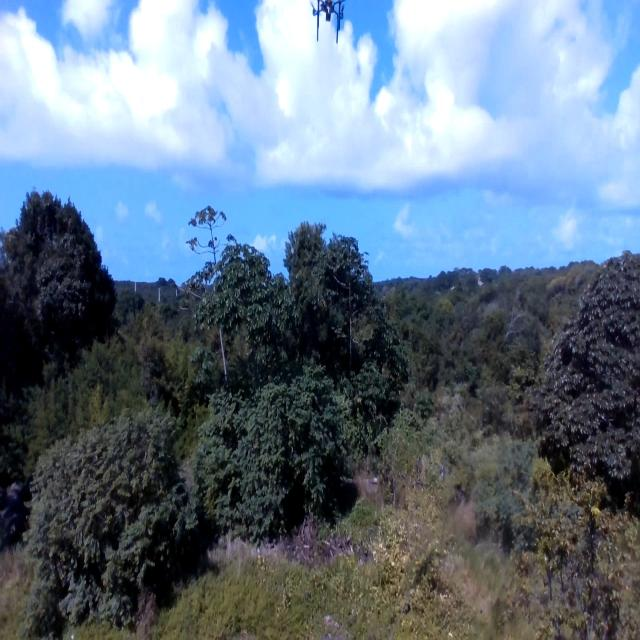-uav-: (307, 0, 350, 47)
